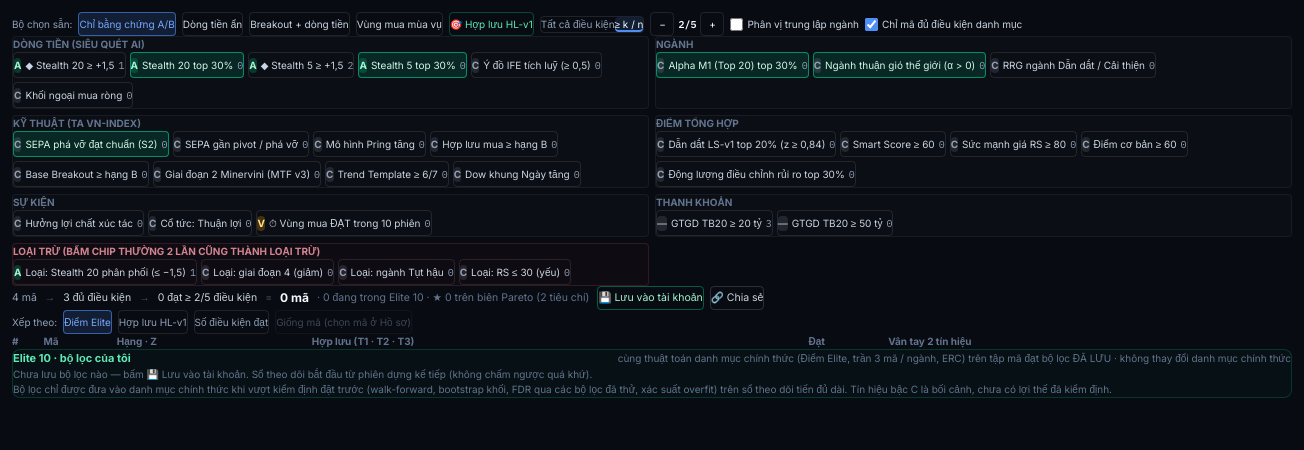
Test case: Bộ lọc Elite › bộ chọn 'Dòng tiền ẩn': ≥ 1 Stealth tích luỹ, loại phân phối, chỉ mã đủ điều kiện; chip 3 trạng thái
Later steps or results of the test are not shown.
Click the button "Dòng tiền ẩn". click: (212, 24)
box: [182,12,243,36]
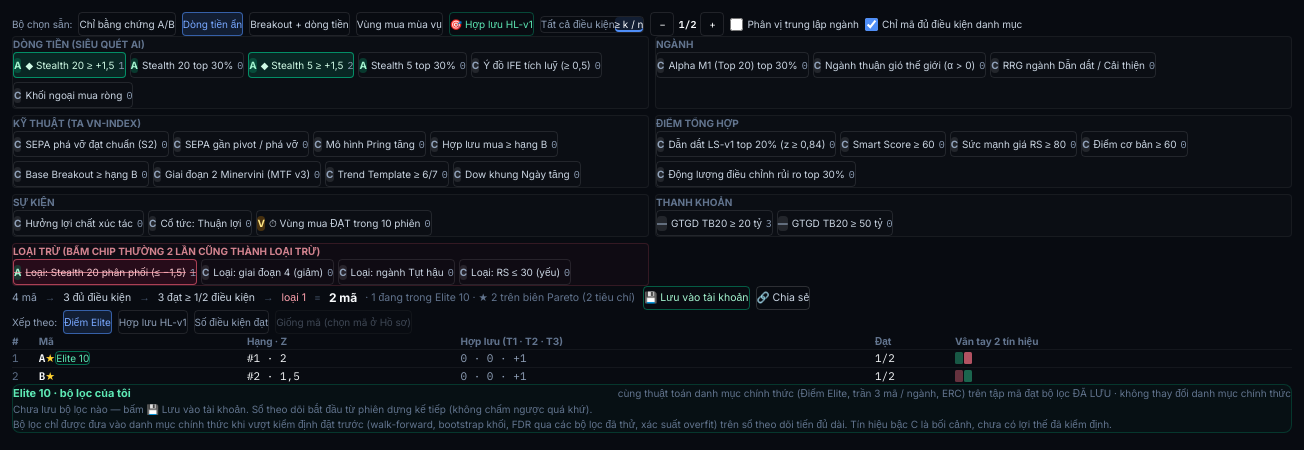
expect the text "2 mã" is shown: met, box [329,289,357,307]
